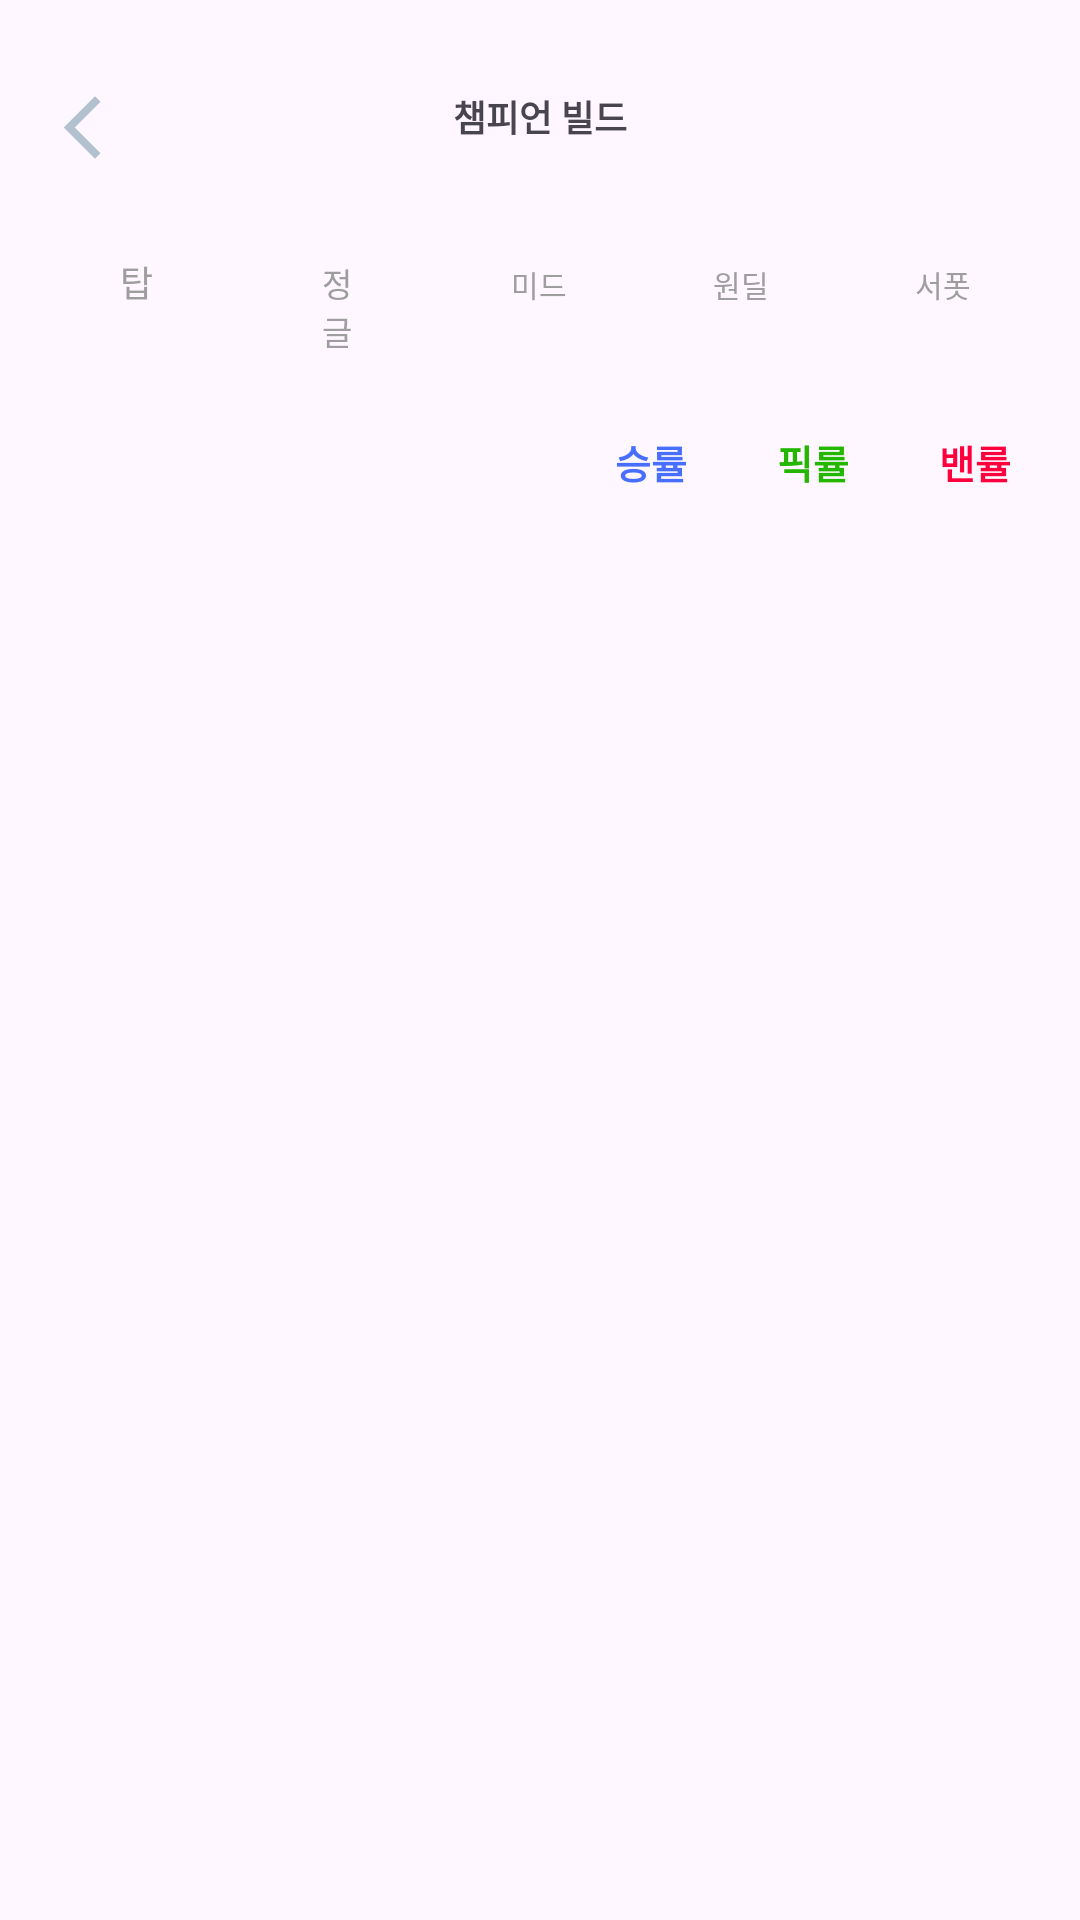

Named icons in this screenshot (1080w x 1920h) and their bounding boxes, bbox(x1, y1, x2, y2):
pageback: bbox(64, 97, 100, 158)
